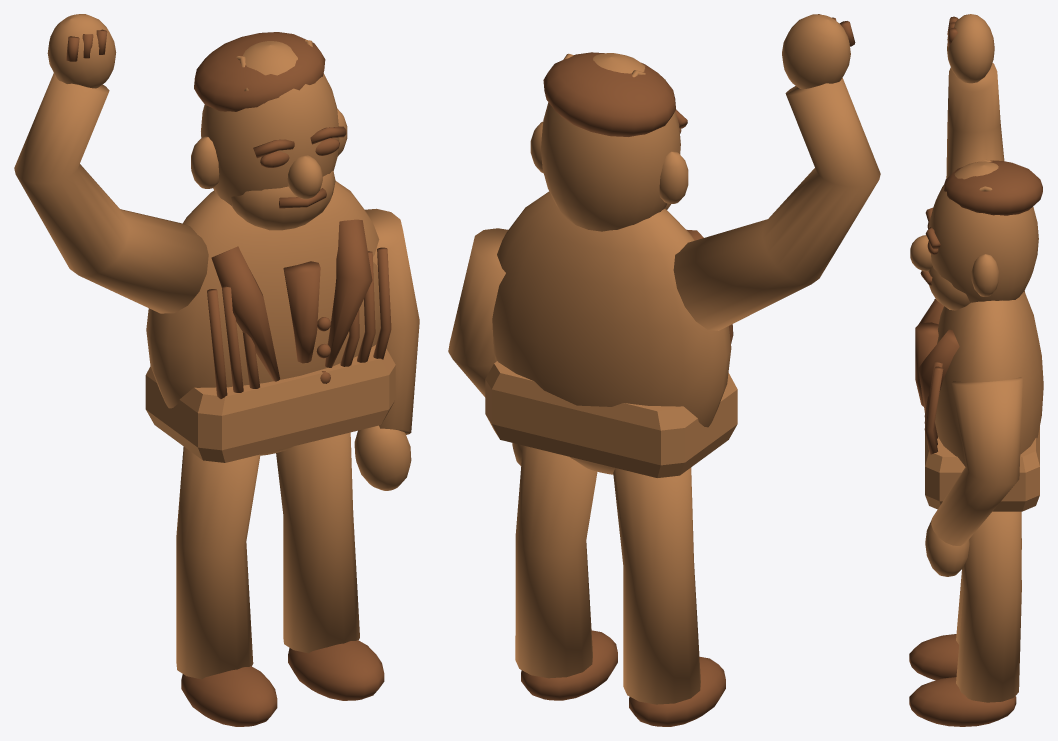
File: shankly.glb
The picture shows the model from 3 angles, left to right: view 1: azimuth 30°, elevation 25°; view 2: azimuth 150°, elevation 25°; view 3: azimuth 270°, elevation 25°; orthographic projection. The views are drawn at different scales.
Parts seen in each view (by area): view 1: shankly · Cast bronze, shankly · Bronze patina, shankly · Cast bronze.001; view 2: shankly · Cast bronze, shankly · Cast bronze.001, shankly · Bronze patina; view 3: shankly · Cast bronze, shankly · Bronze patina, shankly · Cast bronze.001.
Part boxes in pixels (<box>): shankly · Cast bronze: <box>14,14,419,679</box>; shankly · Bronze patina: <box>66,29,391,726</box>; shankly · Cast bronze.001: <box>145,345,395,462</box>; shankly · Cast bronze: <box>448,14,880,704</box>; shankly · Cast bronze.001: <box>485,361,737,477</box>; shankly · Bronze patina: <box>521,14,855,726</box>; shankly · Cast bronze: <box>910,14,1043,702</box>; shankly · Bronze patina: <box>909,16,1042,726</box>; shankly · Cast bronze.001: <box>925,419,1039,511</box>.
Size of the model in its own units: 2.06 by 3.54 by 0.714.
